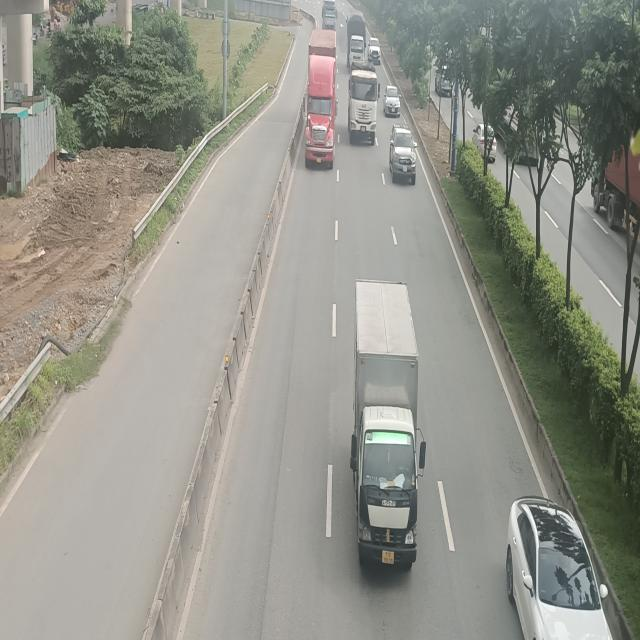car: (507, 501, 606, 640), (389, 122, 417, 183), (384, 85, 402, 117), (368, 37, 381, 64)
container: (302, 28, 338, 169), (349, 69, 380, 146)
truck: (349, 280, 426, 574), (346, 15, 366, 65)
